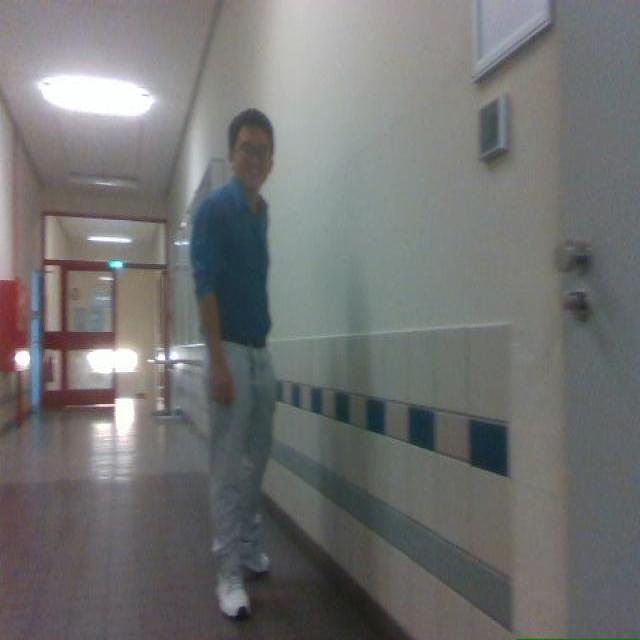humans: (192, 109, 275, 619)
